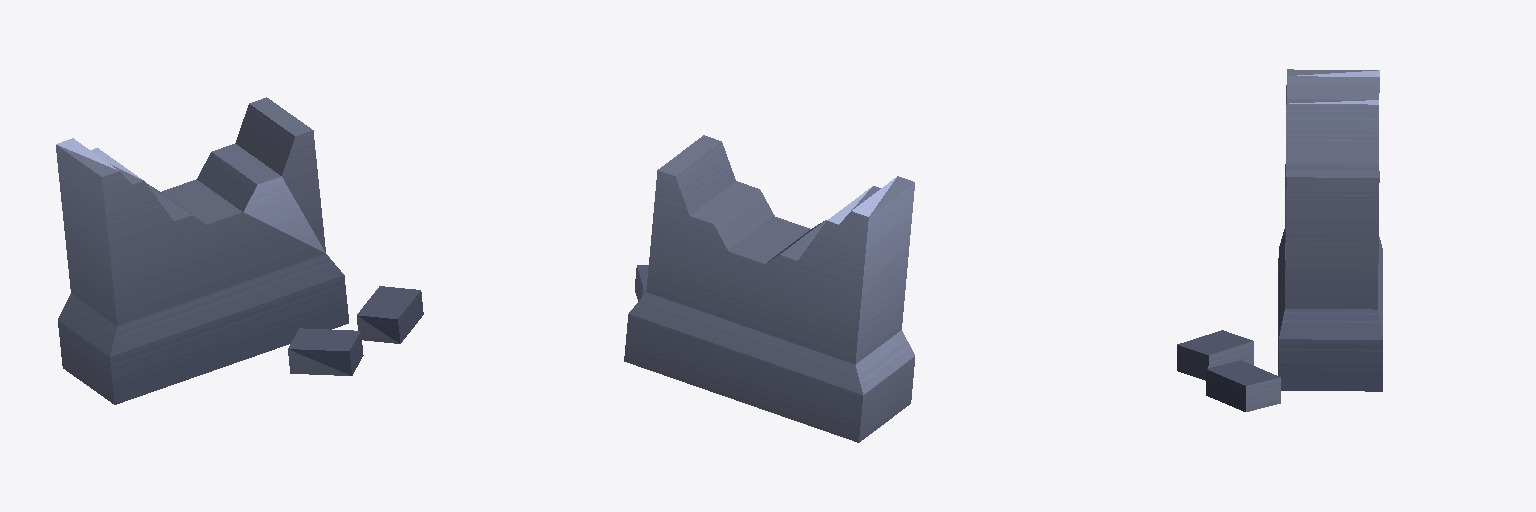
3 views of the same model, side by side, from view 1: azimuth 30°, elevation 25°; view 2: azimuth 150°, elevation 25°; view 3: azimuth 270°, elevation 25° (orthographic).
Parts seen in each view (by area): view 1: Gravestone_Broken_1; view 2: Gravestone_Broken_1; view 3: Gravestone_Broken_1.
Boxes of the visible parts, box(x1,y1,x2,y2) form: Gravestone_Broken_1: box(56, 97, 423, 404); Gravestone_Broken_1: box(624, 135, 914, 442); Gravestone_Broken_1: box(1177, 69, 1382, 411).
Size of the model in its own units: 0.498 by 0.363 by 0.2959.
Materials: 1 (1 with a texture image).